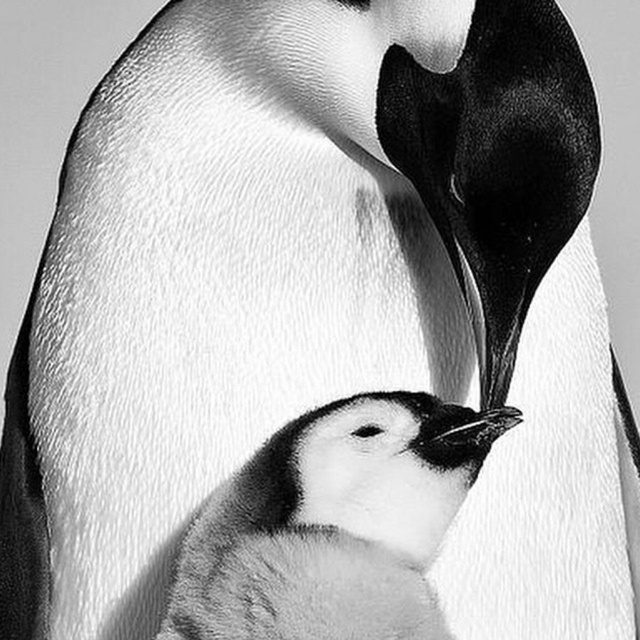Penguin: (2, 14, 590, 637), (161, 381, 521, 639)
